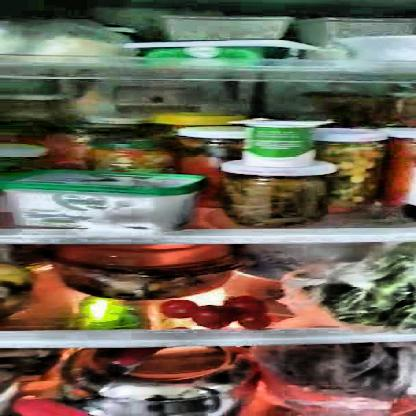cheese: (8, 171, 191, 229)
cream_cheese: (127, 40, 308, 64)
lettuce: (327, 253, 415, 327)
tomato: (163, 298, 269, 328)
yoghurt: (233, 119, 322, 166)
